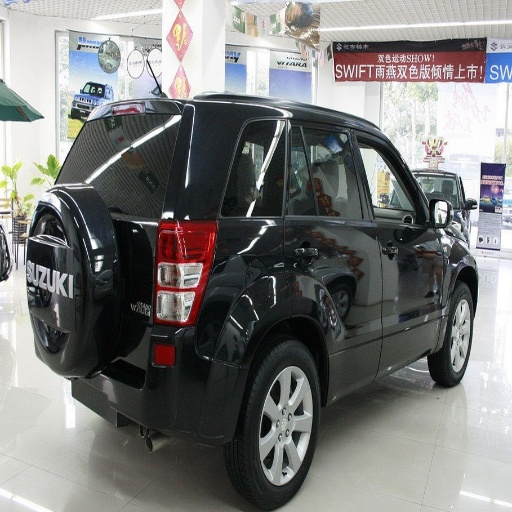back_bumper: (168, 367, 242, 444)
back_left_light: (156, 219, 177, 288)
front_right_door: (356, 122, 444, 365)
tailgate: (106, 4, 154, 40)
trunk: (158, 220, 296, 427)
